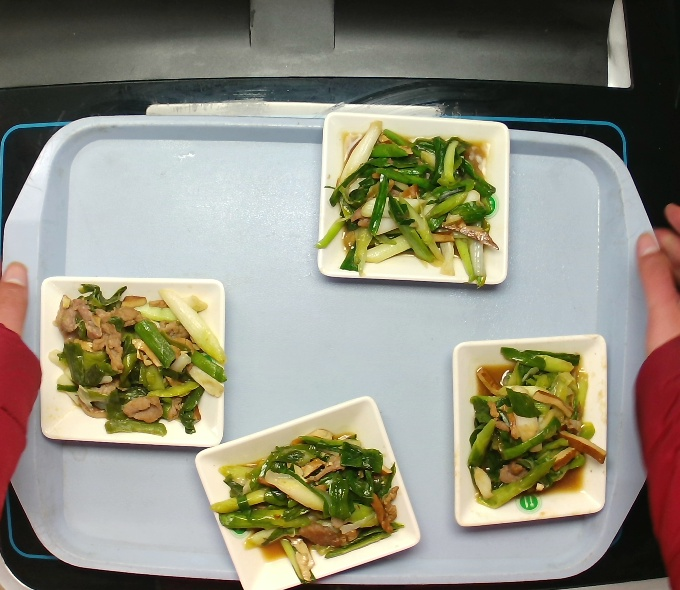wcq-SuanYeChaoRou: (313, 116, 504, 292), (208, 423, 408, 585), (45, 280, 230, 439), (461, 343, 611, 511)
